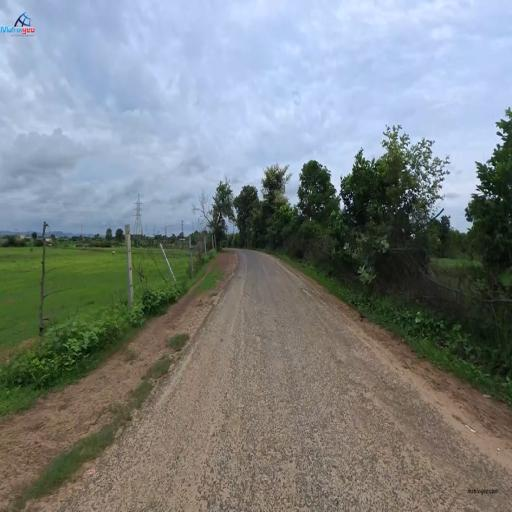ravelling: (209, 353, 367, 490)
